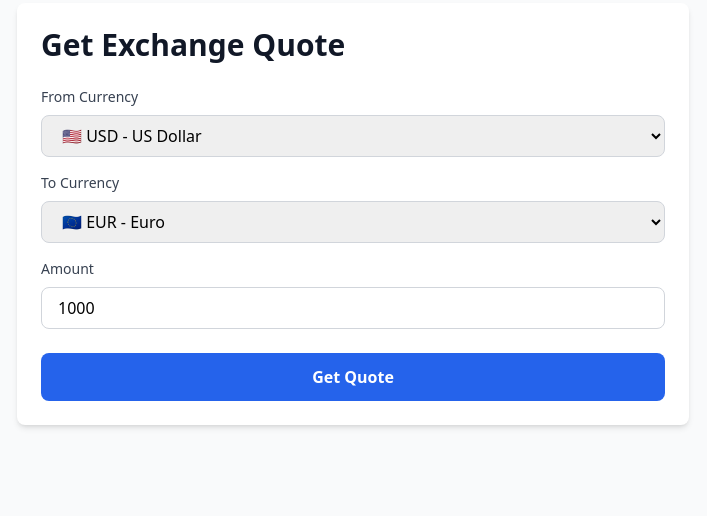
Test case: QuoteScreen › should validate amount input
Replace the text in the number field labelled "Amount" with "-100". click: (353, 308)
box: [41,287,665,329]
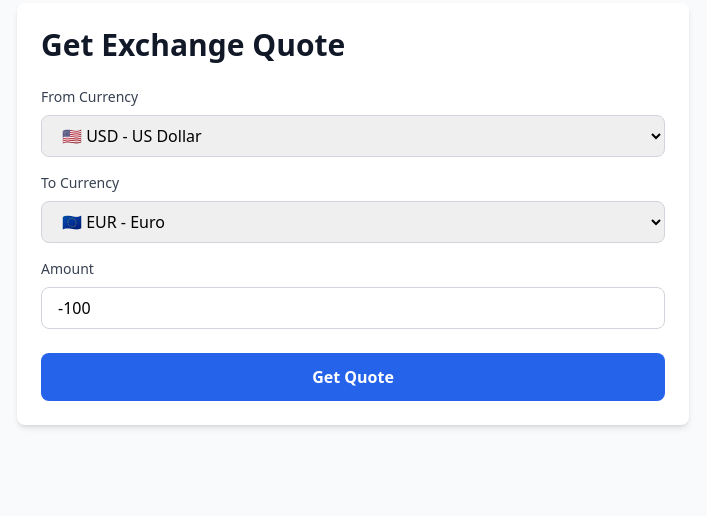
Click the button "Get Quote". click: (353, 377)
box: [41,353,665,401]
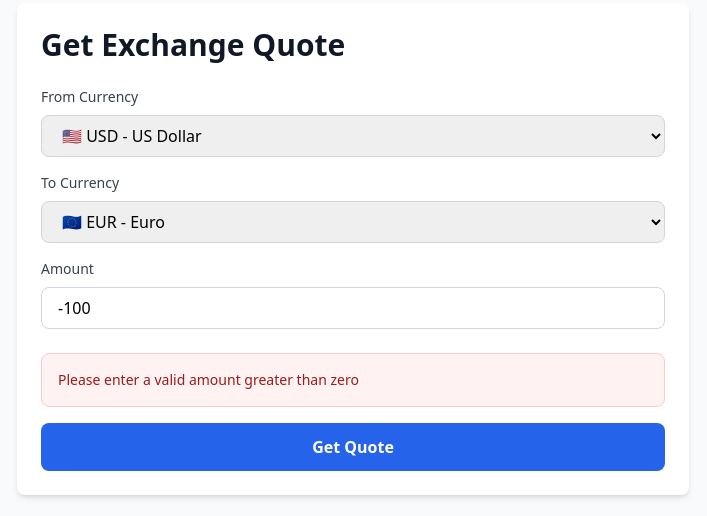
Now the text "Please enter a valid amount greater than zero" is shown, box [58,370,359,389]
